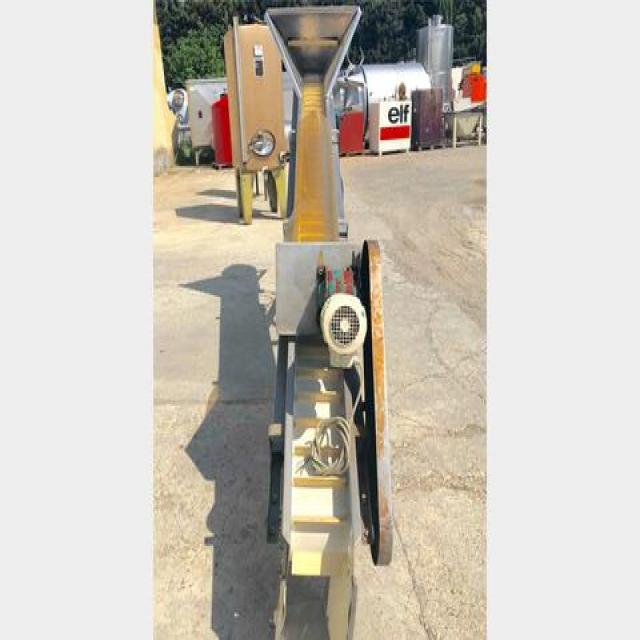Convoyeur: (266, 9, 378, 332)
